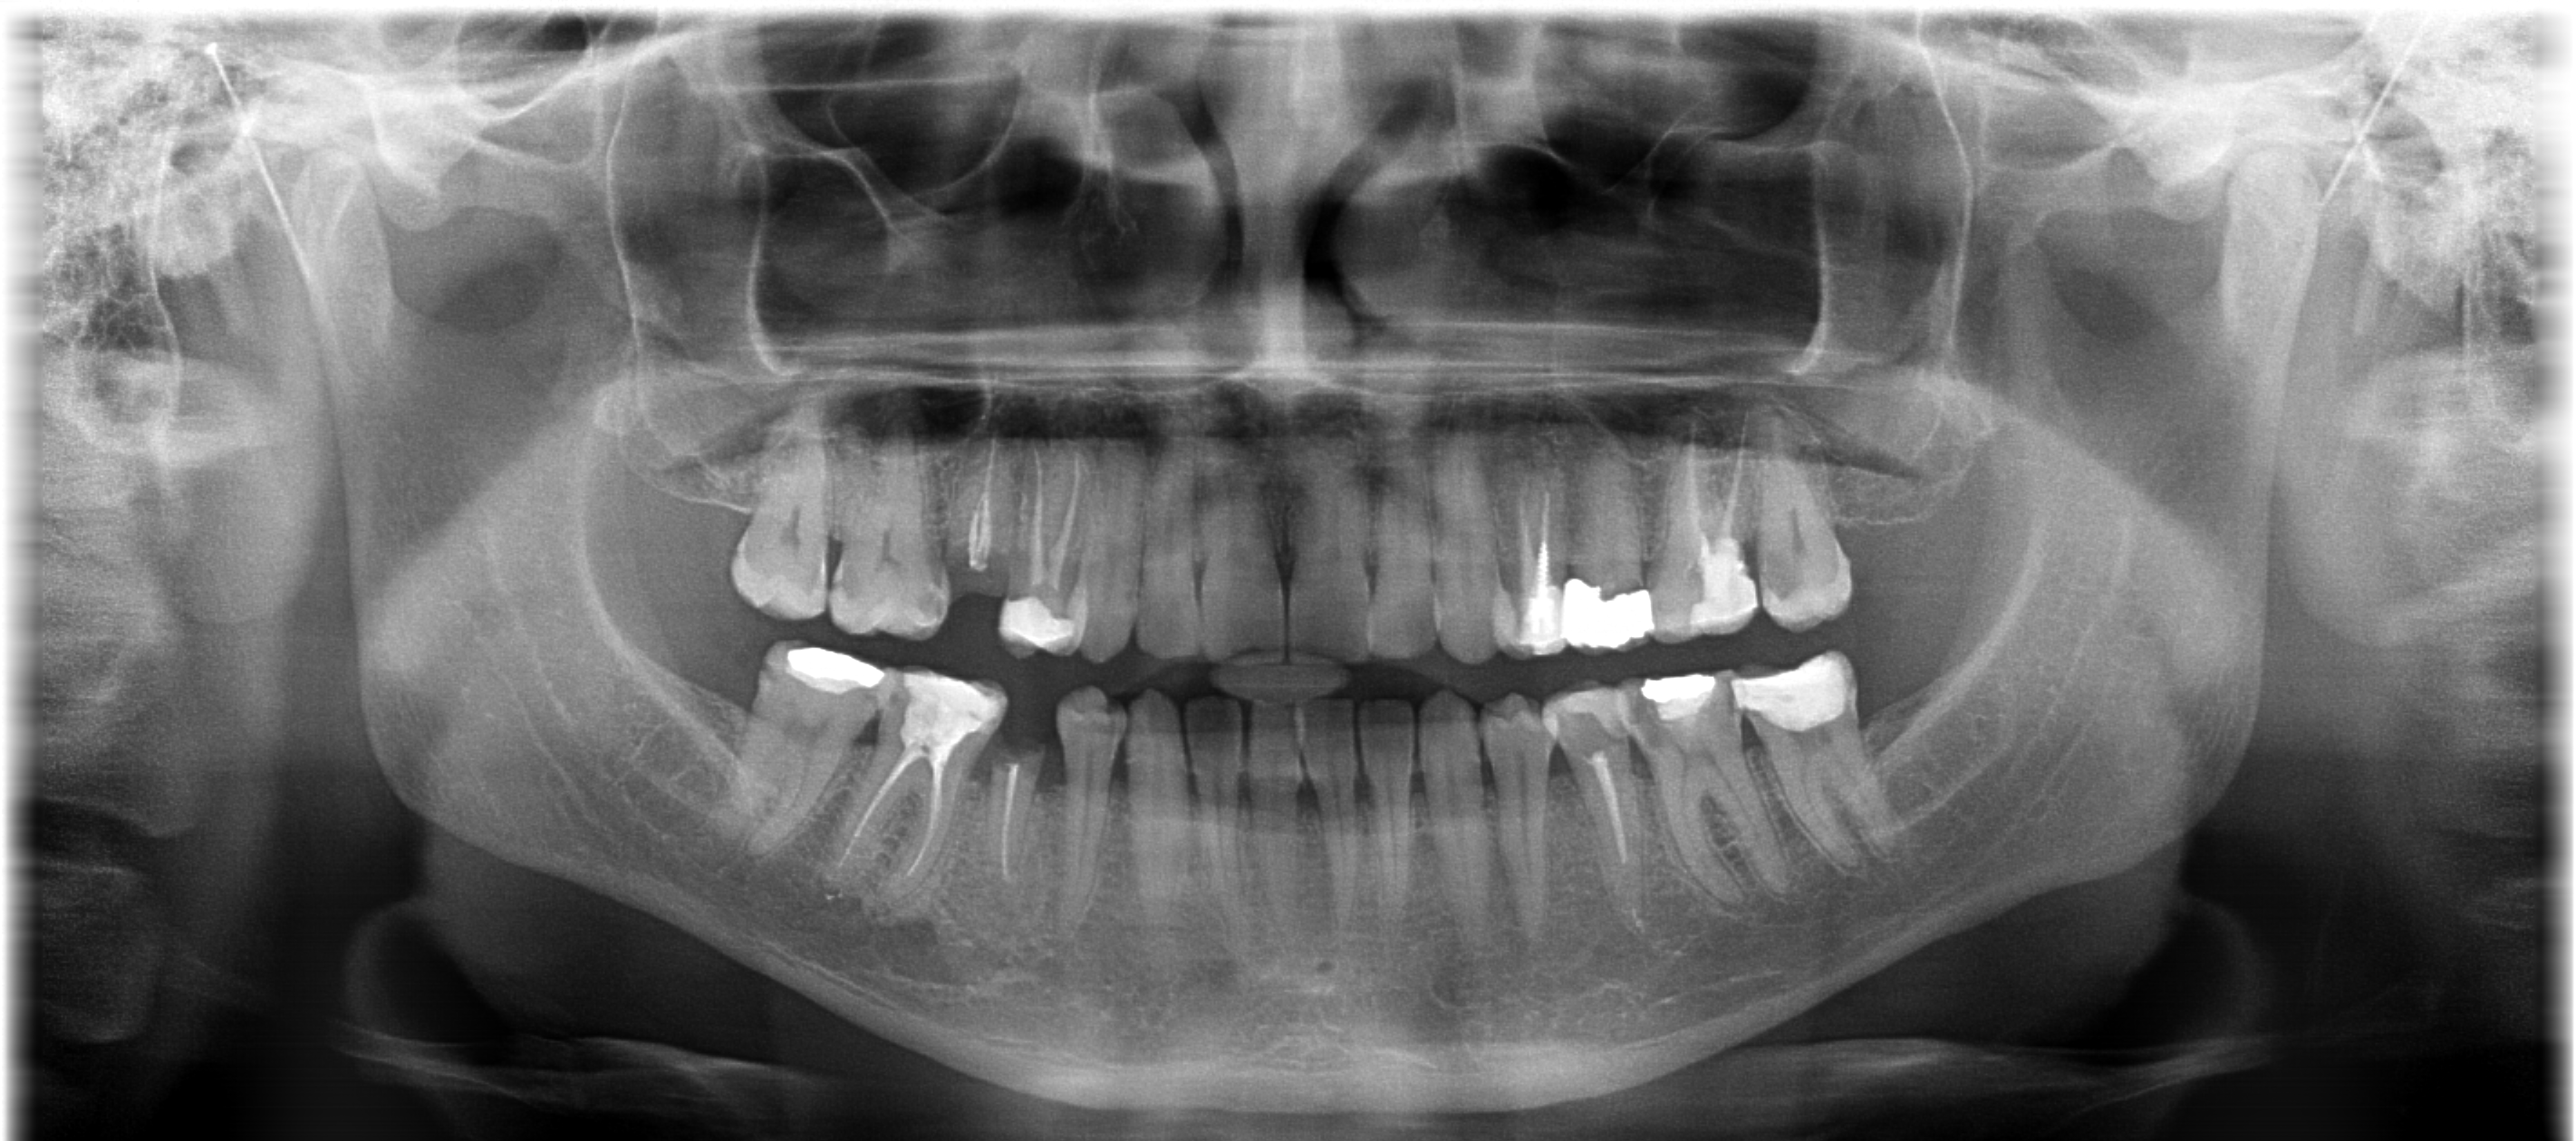apinamiento: (1526, 658, 1666, 945), (1628, 411, 1763, 649), (999, 436, 1088, 666)
zona_dentula: (946, 431, 1024, 620), (971, 733, 1046, 909)
